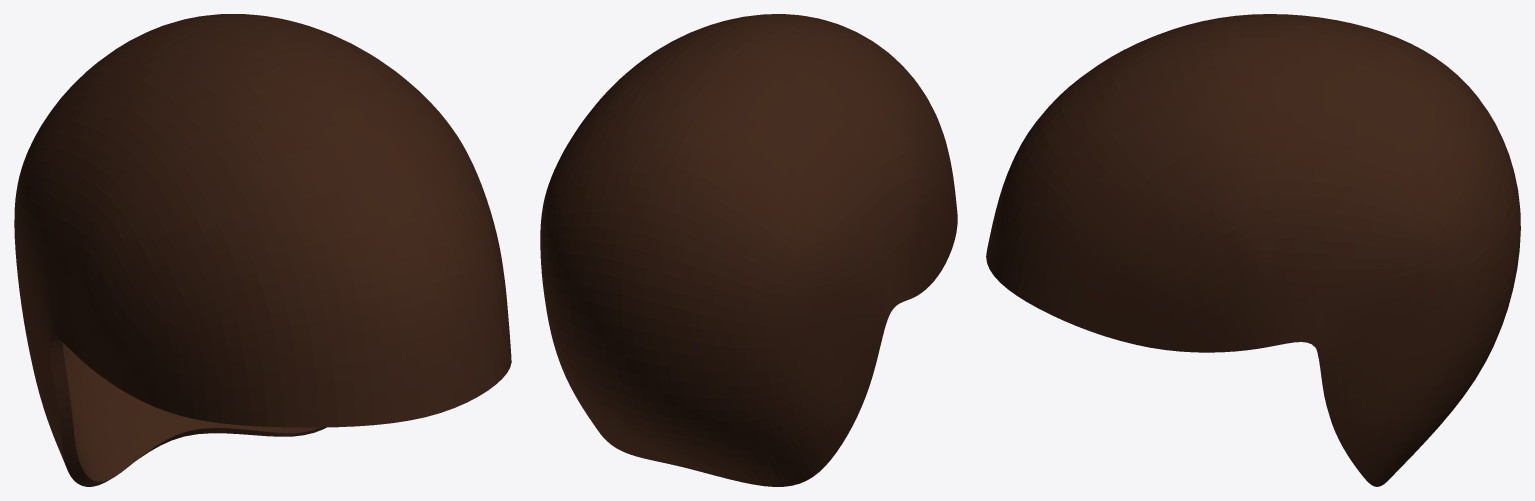
The model's file is Hair.fbx.
3 views of the same model, side by side, from view 1: azimuth 30°, elevation 25°; view 2: azimuth 150°, elevation 25°; view 3: azimuth 270°, elevation 25° (orthographic). The views are drawn at different scales.
Parts seen in each view (by area): view 1: Hair; view 2: Hair; view 3: Hair.
Boxes of the visible parts, bbox=[...] form: Hair: bbox=[14, 14, 511, 486]; Hair: bbox=[540, 14, 957, 486]; Hair: bbox=[986, 14, 1520, 486].
Bounding box in the file's own units: 349 × 403 × 476.
